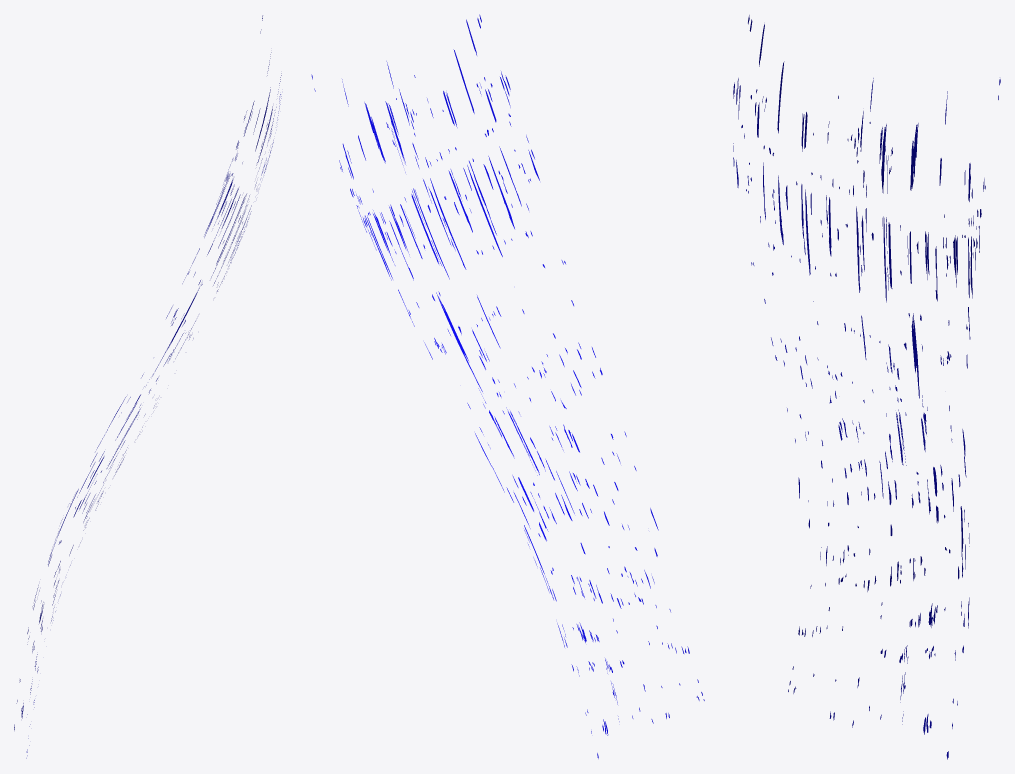
The model's file is curvedtool_Wrinkle_obj.obj.
3 views of the same model, side by side, from view 1: azimuth 30°, elevation 25°; view 2: azimuth 150°, elevation 25°; view 3: azimuth 270°, elevation 25° (orthographic). The views are drawn at different scales.
Parts seen in each view (by area): view 1: front 321; view 2: front 321; view 3: front 321.
Part boxes in pixels (<box>): front 321: <box>14,15,281,758</box>; front 321: <box>311,14,704,758</box>; front 321: <box>733,15,1000,759</box>.
Size of the model in its own units: 0.844 by 1.65 by 0.4596.
